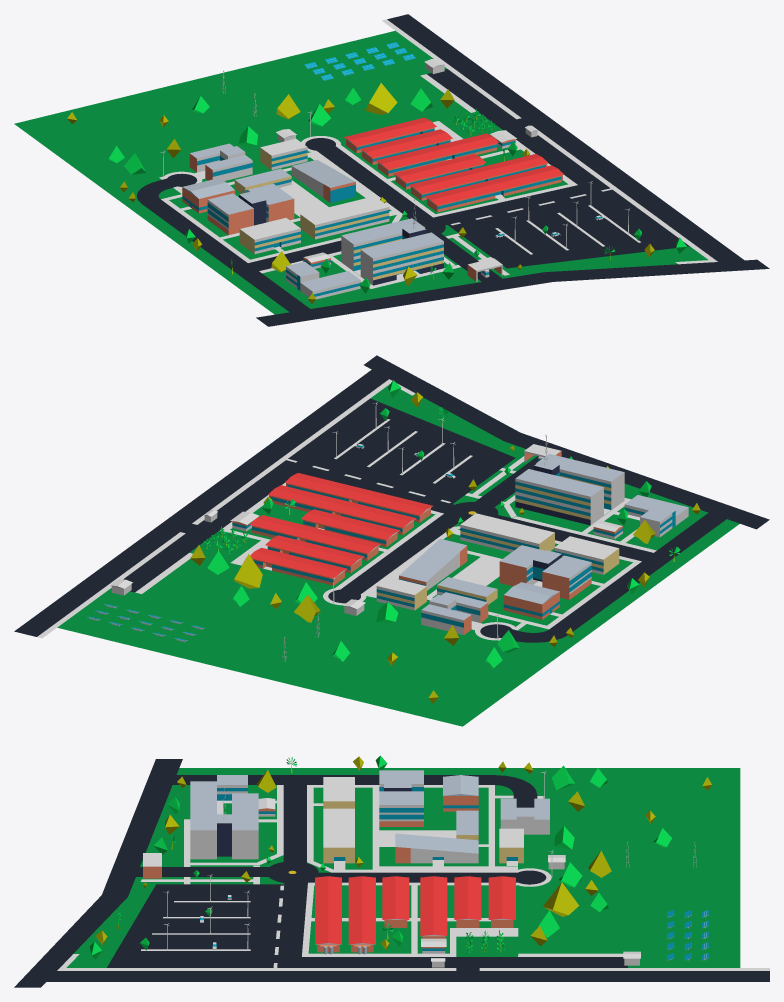
Rendered from cmmg.glb.
The picture shows the model from 3 angles, top to bottom: view 1: azimuth 30°, elevation 25°; view 2: azimuth 150°, elevation 25°; view 3: azimuth 270°, elevation 25°; orthographic projection. The views are drawn at different scales.
Parts seen in each view (by area): view 1: cmmgmetre.000_greenbase, cmmg_park1, cmmgmeroa.001, cmmgmeroa, cmmgci_Centro de Informática, cmmgmeroa.006, cmmgmebui.010, cmmgmeroa.002, cmmgmebui.004, cmmgmebui.002, cmmgmebui.005, cmmgmebui.007 (+21 smaller); view 2: cmmgmetre.000_greenbase, cmmg_park1, cmmgmeroa.001, cmmgci_Centro de Informática, cmmgmeroa, cmmgmeroa.006, cmmgmebui.010, cmmgmeroa.002, cmmgmebui.005, cmmgmebui.002, cmmgmebui.004, cmmgmebui.007 (+20 smaller); view 3: cmmgmetre.000_greenbase, cmmg_park1, cmmgmeroa.001, cmmgmeroa, cmmgci_Centro de Informática, cmmgmeroa.006, cmmgmebui.010, cmmgmebui.011, cmmgmebui.005, cmmgmeroa.005, cmmgmebui.004, cmmgmeroa.007 (+32 smaller).
Boxes of the visible parts, x1=… form: cmmgmetre.000_greenbase: x1=14, y1=30, x2=707, y2=314; cmmg_park1: x1=448, y1=188, x2=689, y2=268; cmmgmeroa.001: x1=387, y1=14, x2=743, y2=261; cmmgmeroa: x1=256, y1=259, x2=769, y2=326; cmmgci_Centro de Informática: x1=341, y1=218, x2=443, y2=285; cmmgmeroa.006: x1=427, y1=69, x2=599, y2=184; cmmgmebui.010: x1=207, y1=183, x2=294, y2=235; cmmgmeroa.002: x1=145, y1=201, x2=309, y2=312; cmmgmebui.004: x1=424, y1=165, x2=563, y2=212; cmmgmebui.002: x1=300, y1=196, x2=389, y2=239; cmmgmebui.005: x1=409, y1=154, x2=547, y2=200; cmmgmebui.007: x1=375, y1=133, x2=498, y2=176; cmmgmetre.000_greenbase: x1=57, y1=384, x2=739, y2=726; cmmg_park1: x1=287, y1=398, x2=515, y2=503; cmmgmeroa.001: x1=14, y1=370, x2=389, y2=636; cmmgci_Centro de Informática: x1=515, y1=453, x2=624, y2=525; cmmgmeroa: x1=364, y1=355, x2=769, y2=529; cmmgmeroa.006: x1=123, y1=468, x2=294, y2=592; cmmgmebui.010: x1=499, y1=545, x2=591, y2=599; cmmgmeroa.002: x1=553, y1=513, x2=726, y2=631; cmmgmebui.005: x1=268, y1=485, x2=416, y2=535; cmmgmebui.002: x1=460, y1=513, x2=554, y2=552; cmmgmebui.004: x1=285, y1=473, x2=432, y2=522; cmmgmebui.007: x1=249, y1=515, x2=380, y2=560; cmmgmetre.000_greenbase: x1=64, y1=768, x2=740, y2=967; cmmg_park1: x1=107, y1=884, x2=284, y2=967; cmmgmeroa.001: x1=46, y1=971, x2=769, y2=981; cmmgmeroa: x1=14, y1=759, x2=182, y2=987; cmmgci_Centro de Informática: x1=190, y1=793, x2=258, y2=859; cmmgmeroa.006: x1=301, y1=957, x2=627, y2=967; cmmgmebui.010: x1=379, y1=770, x2=423, y2=826; cmmgmebui.011: x1=395, y1=833, x2=478, y2=866; cmmgmebui.005: x1=348, y1=876, x2=375, y2=954; cmmgmeroa.005: x1=277, y1=881, x2=307, y2=967; cmmgmebui.004: x1=315, y1=876, x2=341, y2=954; cmmgmeroa.007: x1=283, y1=785, x2=306, y2=863.
Bounding box in the file's own units: 3.34 × 0.467 × 4.66.
